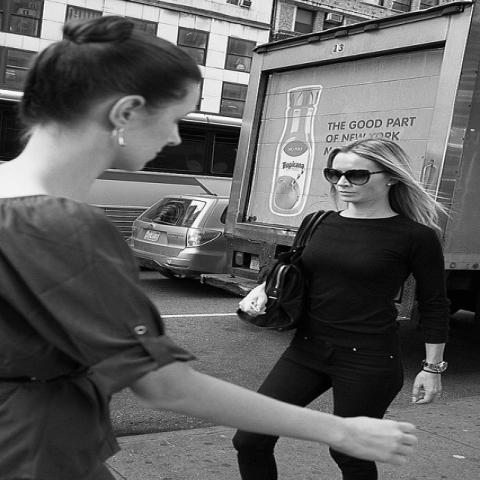bus: (91, 112, 235, 234)
car: (132, 195, 234, 281)
truck: (198, 0, 479, 333)
